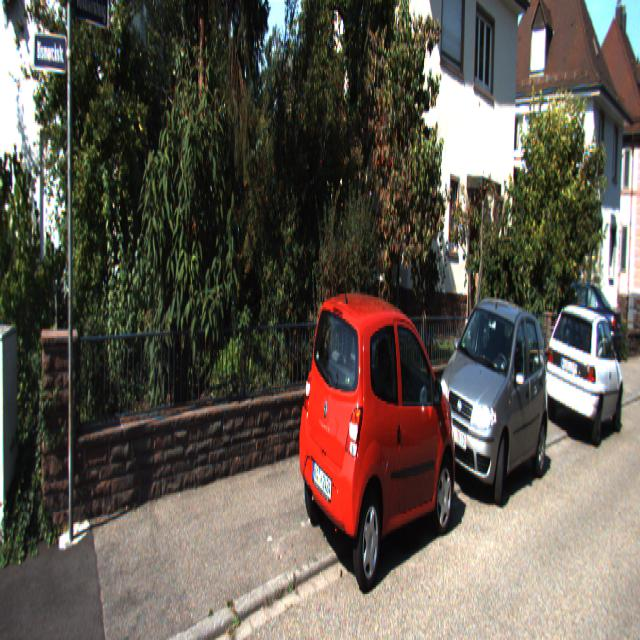Car: (298, 287, 461, 614), (433, 286, 550, 511), (542, 306, 623, 450)
